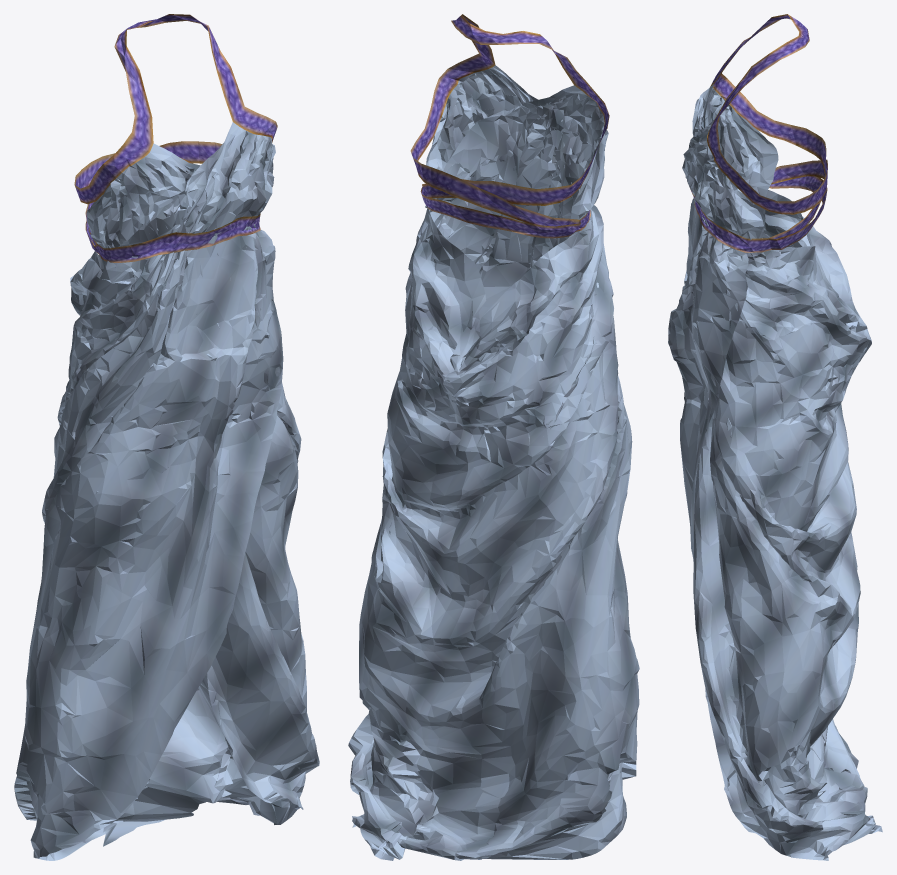
The model's file is mhw_elvs_goddess_dress3.glb.
3 views of the same model, side by side, from view 1: azimuth 30°, elevation 25°; view 2: azimuth 150°, elevation 25°; view 3: azimuth 270°, elevation 25° (orthographic). The views are drawn at different scales.
Visible parts, largest first — view 1: mhw_elvs_goddess_dress3; view 2: mhw_elvs_goddess_dress3; view 3: mhw_elvs_goddess_dress3.
Boxes of the visible parts, left/top/right/bottom form: mhw_elvs_goddess_dress3: left=14, top=14, right=319, bottom=860; mhw_elvs_goddess_dress3: left=348, top=14, right=639, bottom=860; mhw_elvs_goddess_dress3: left=668, top=14, right=882, bottom=860.
Size of the model in its own units: 0.5799 by 1.62 by 0.4046.
1 material, 1 textured.
